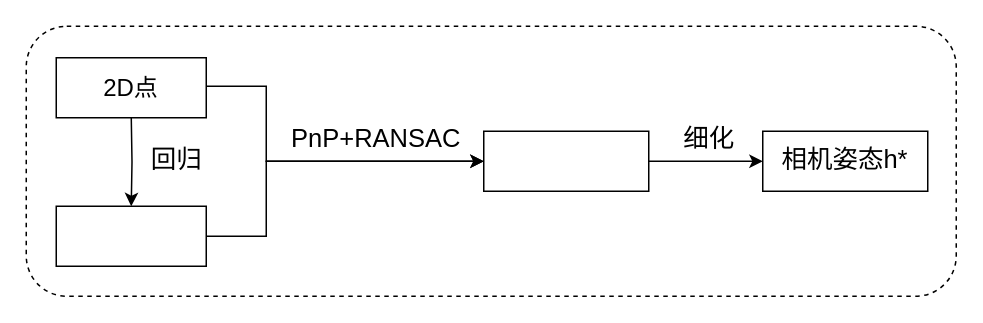
The diagram is 983 pixels wide and 323 high, and some of its shapes have lost their labels. Each missing label, with the centre of its shape:
"3D点" goes at pixel 130 235.
"相机姿态h" goes at pixel 565 160.
